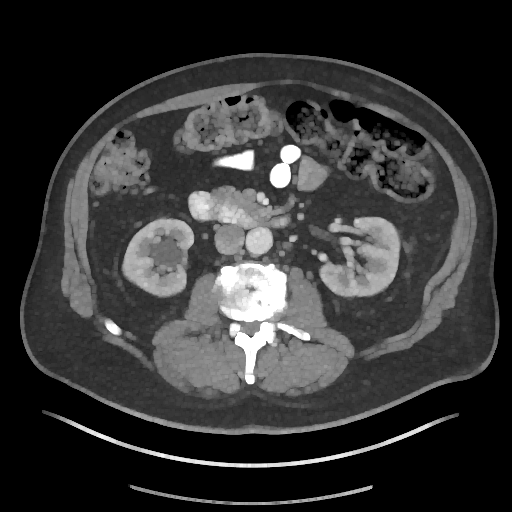Lesion: (149, 239, 184, 269)
